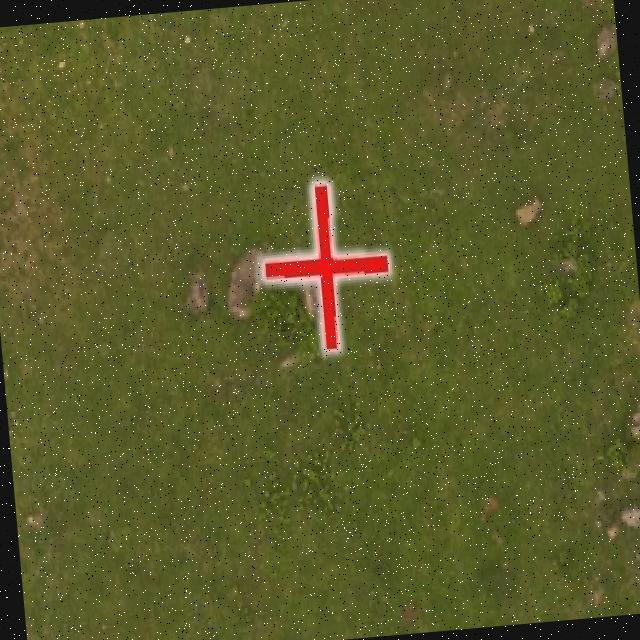x_marker: (255, 177, 393, 353)
